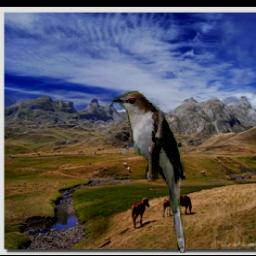Cuckoo: (110, 90, 185, 253)
